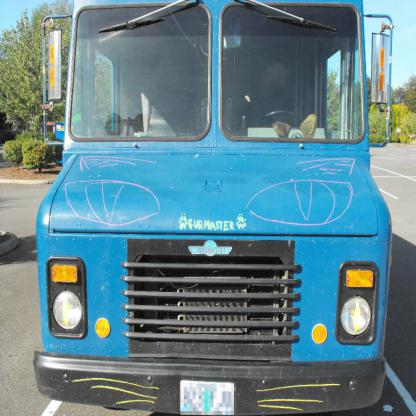Truck: (32, 1, 393, 415)
